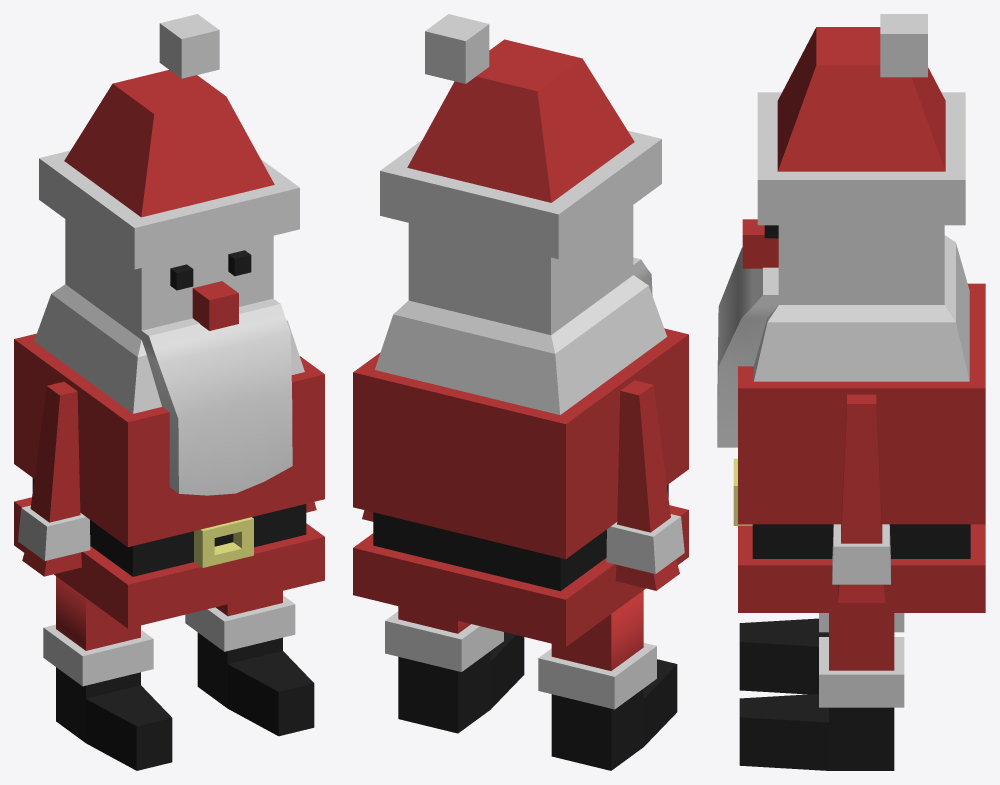
File: 017 Santa_claus2.fbx
3 renders of one model, left to right at view 1: azimuth 30°, elevation 25°; view 2: azimuth 150°, elevation 25°; view 3: azimuth 270°, elevation 25°, orthographic. The views are drawn at different scales.
Visible parts, largest first — view 1: Lowpoly_Christmas_Pack_017:pCube13, Lowpoly_Christmas_Pack_017:pCube13.003, Lowpoly_Christmas_Pack_017:pCube13.004, Lowpoly_Christmas_Pack_017:pCube13.001; view 2: Lowpoly_Christmas_Pack_017:pCube13, Lowpoly_Christmas_Pack_017:pCube13.003, Lowpoly_Christmas_Pack_017:pCube13.004, Lowpoly_Christmas_Pack_017:pCube13.001; view 3: Lowpoly_Christmas_Pack_017:pCube13, Lowpoly_Christmas_Pack_017:pCube13.004, Lowpoly_Christmas_Pack_017:pCube13.002, Lowpoly_Christmas_Pack_017:pCube13.003.
Boxes of the visible parts, box(x1,y1,x2,y2) form: Lowpoly_Christmas_Pack_017:pCube13: box(14, 14, 324, 628); Lowpoly_Christmas_Pack_017:pCube13.003: box(43, 576, 172, 770); Lowpoly_Christmas_Pack_017:pCube13.004: box(185, 591, 314, 736); Lowpoly_Christmas_Pack_017:pCube13.001: box(18, 381, 90, 576); Lowpoly_Christmas_Pack_017:pCube13: box(353, 14, 688, 646); Lowpoly_Christmas_Pack_017:pCube13.003: box(538, 590, 677, 770); Lowpoly_Christmas_Pack_017:pCube13.004: box(385, 606, 524, 733); Lowpoly_Christmas_Pack_017:pCube13.001: box(606, 380, 684, 590); Lowpoly_Christmas_Pack_017:pCube13: box(717, 14, 985, 612); Lowpoly_Christmas_Pack_017:pCube13.004: box(739, 613, 904, 770); Lowpoly_Christmas_Pack_017:pCube13.002: box(832, 394, 890, 602); Lowpoly_Christmas_Pack_017:pCube13.003: box(739, 613, 904, 694).
Size of the model in its own units: 0.014 by 0.0319 by 0.0108.
